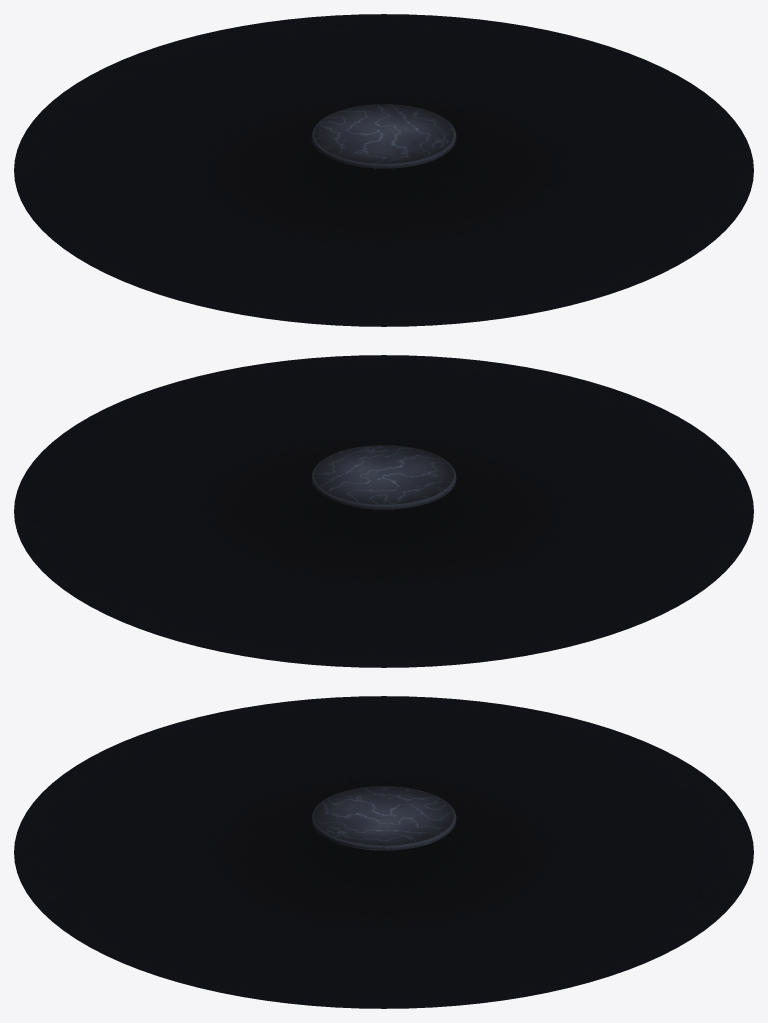
The model's file is table_night.glb.
The picture shows the model from 3 angles, top to bottom: view 1: azimuth 30°, elevation 25°; view 2: azimuth 150°, elevation 25°; view 3: azimuth 270°, elevation 25°; orthographic projection.
Parts seen in each view (by area): view 1: table; view 2: table; view 3: table.
Part boxes in pixels (x1,y1,x2,y2): table: (14, 14, 753, 326); table: (14, 355, 753, 667); table: (14, 696, 753, 1008).
Bounding box in the file's own units: 92 × 5 × 92.
Materials: 1 (1 with a texture image).
